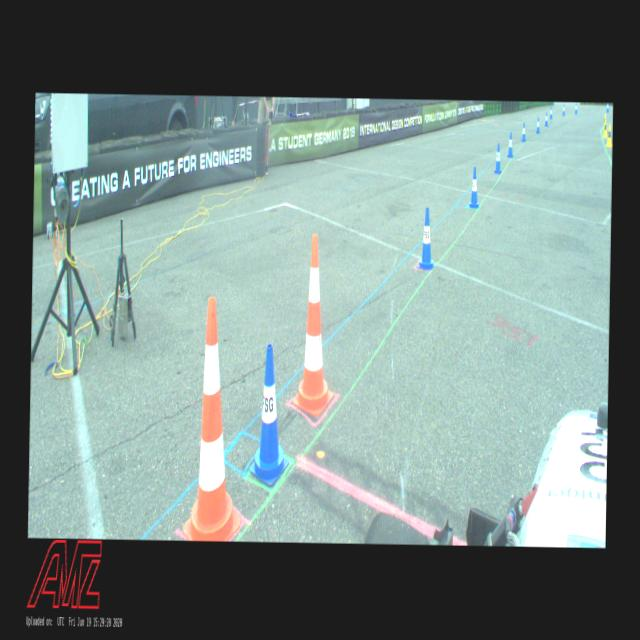blue_cone: (248, 340, 288, 488), (417, 206, 436, 270), (468, 166, 479, 208), (494, 143, 502, 173), (506, 132, 514, 157), (521, 122, 526, 142), (535, 116, 540, 134), (544, 112, 548, 126), (561, 102, 565, 114), (549, 106, 552, 119), (574, 102, 577, 114), (606, 102, 609, 112)
large_orange_cone: (176, 294, 248, 542), (295, 230, 333, 424)
yellow_cone: (606, 124, 612, 146), (602, 120, 608, 138), (602, 114, 606, 128)
